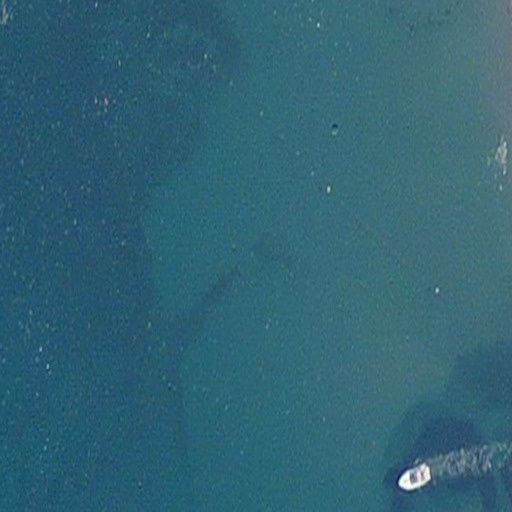ship: (396, 462, 434, 494)
